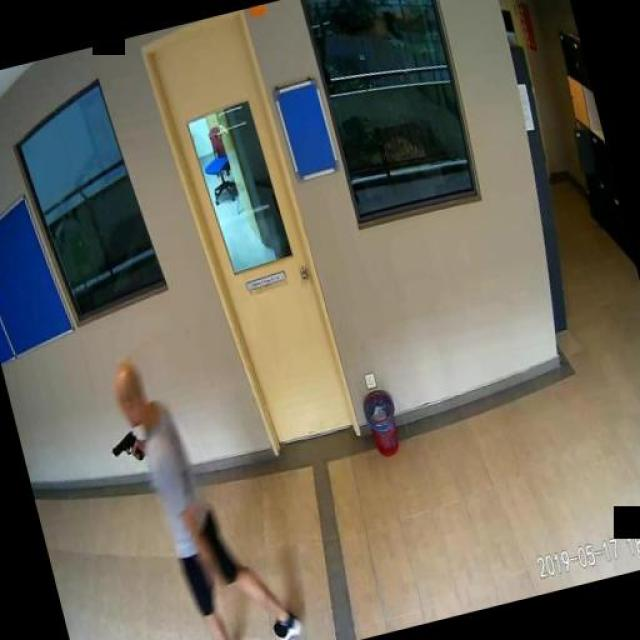gun: (108, 430, 144, 466)
